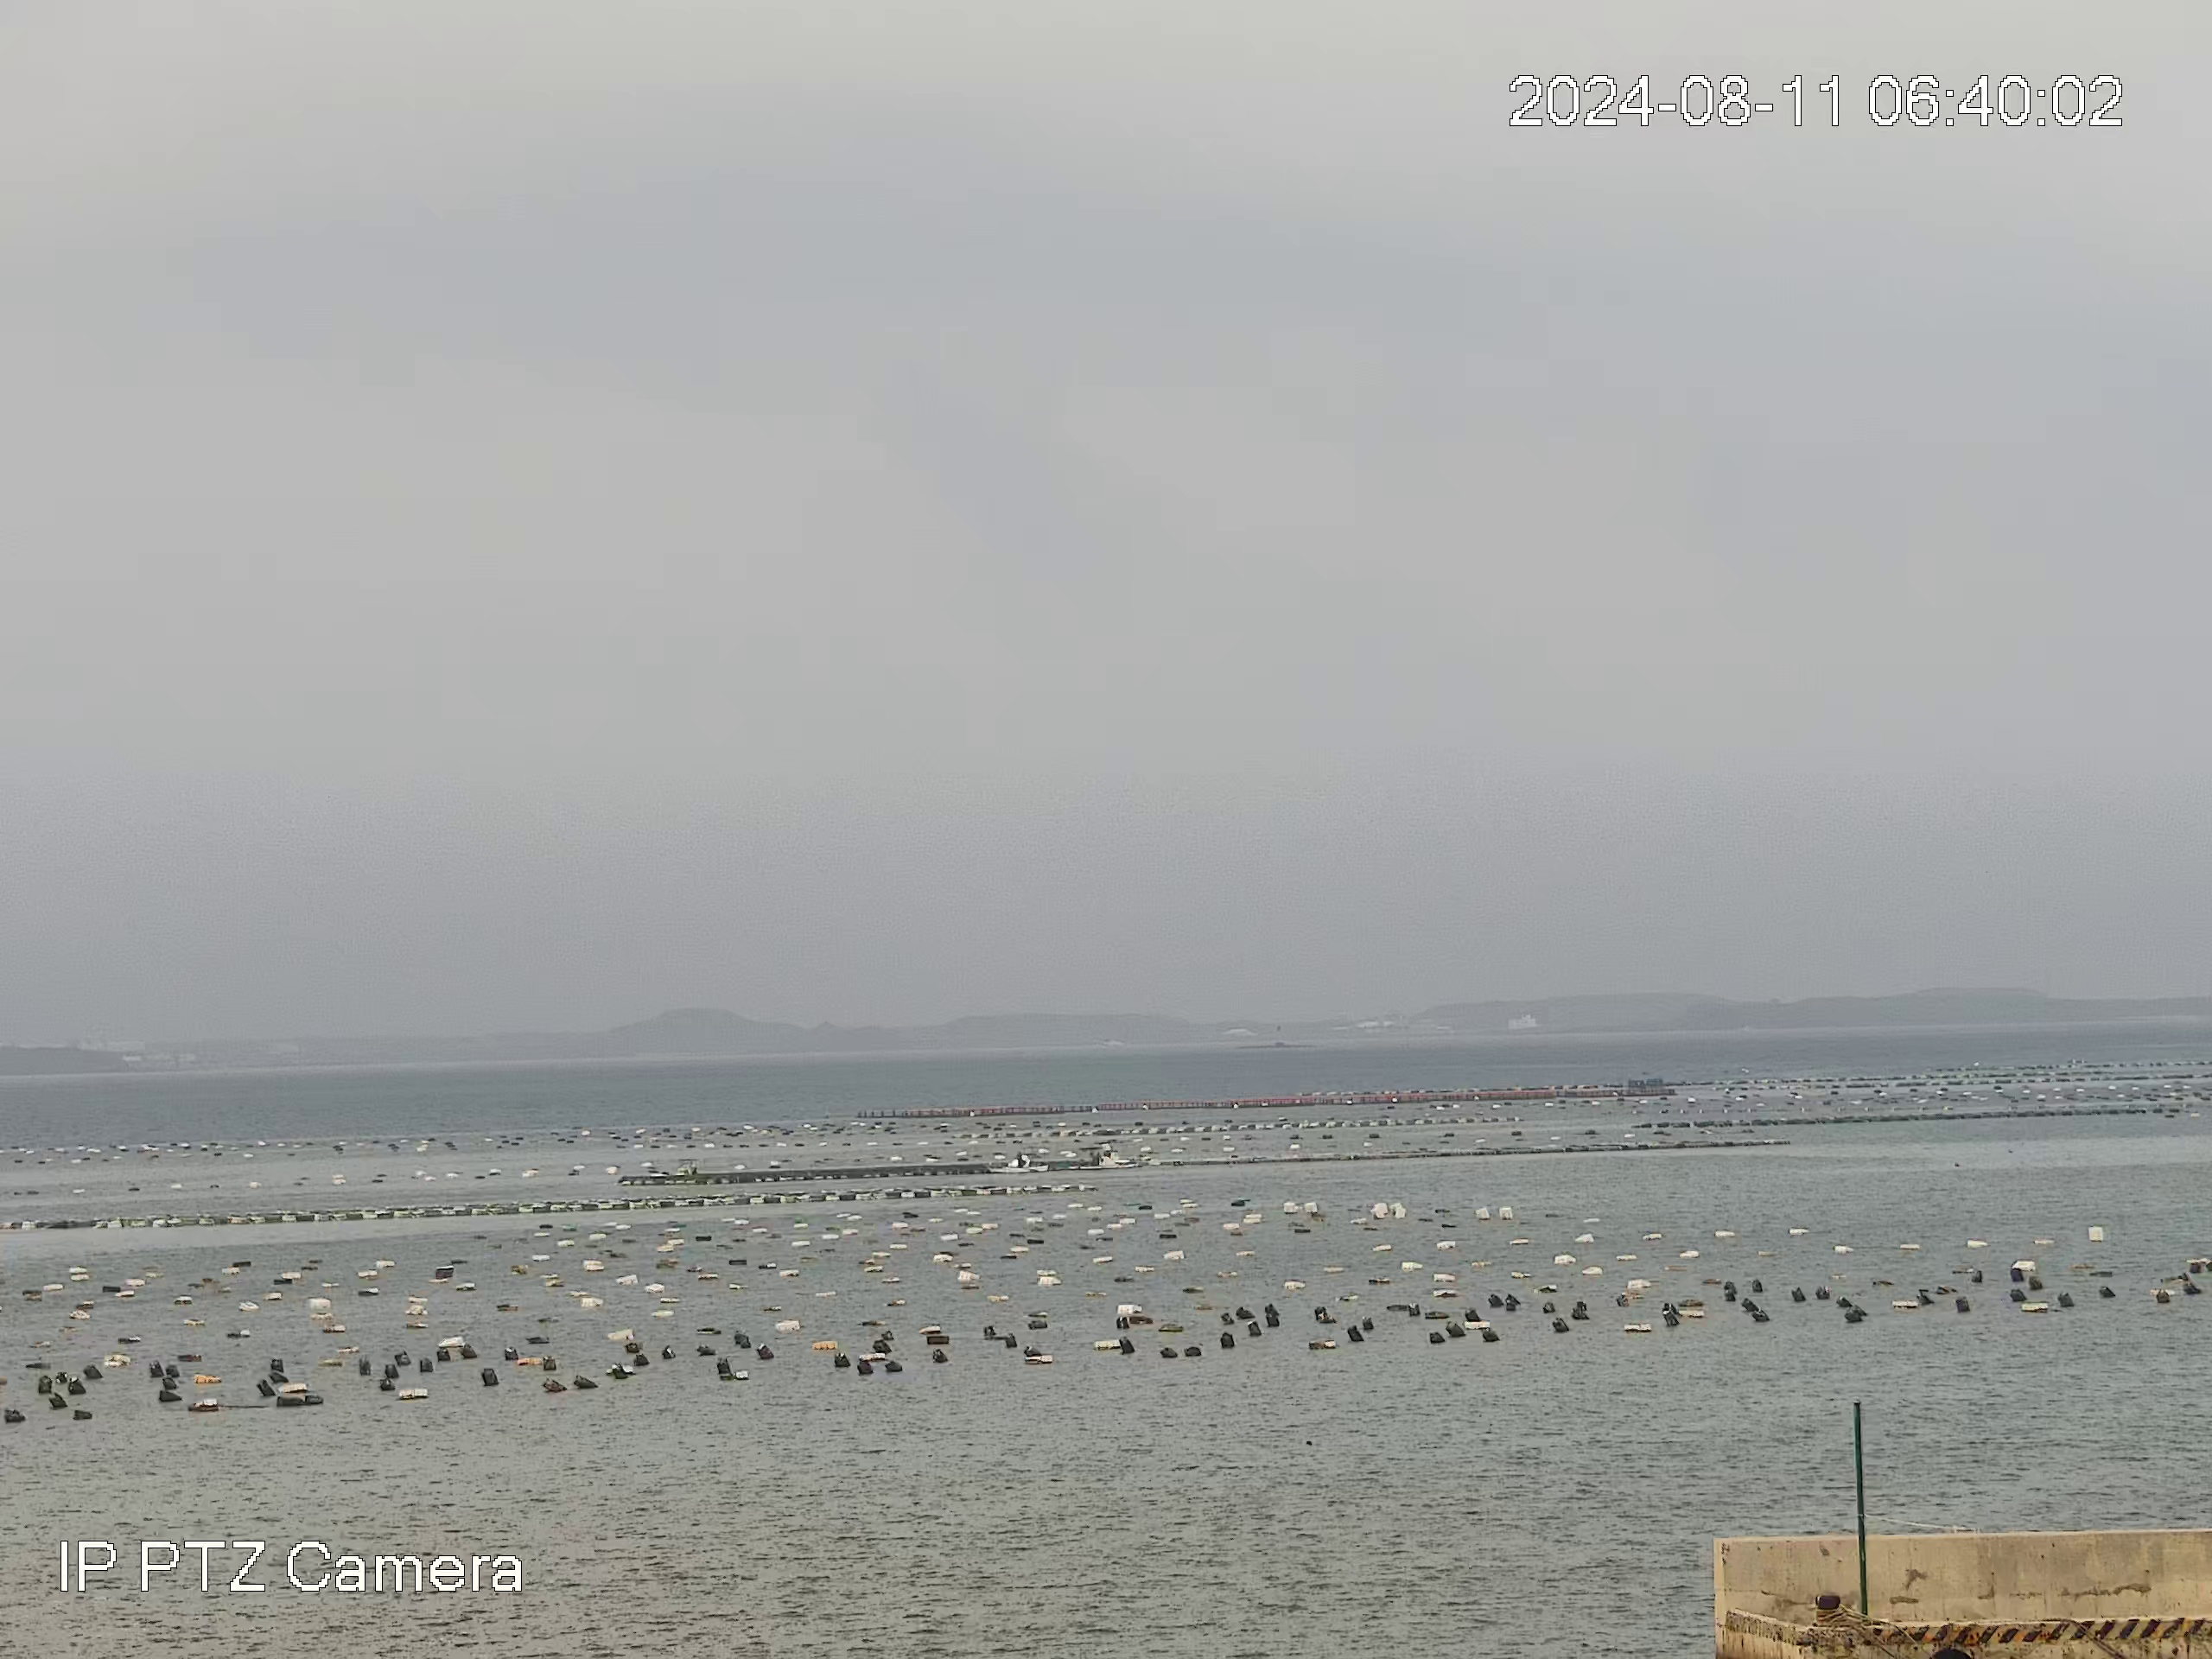boat: (1066, 1143, 1120, 1169), (984, 1154, 1050, 1175)
